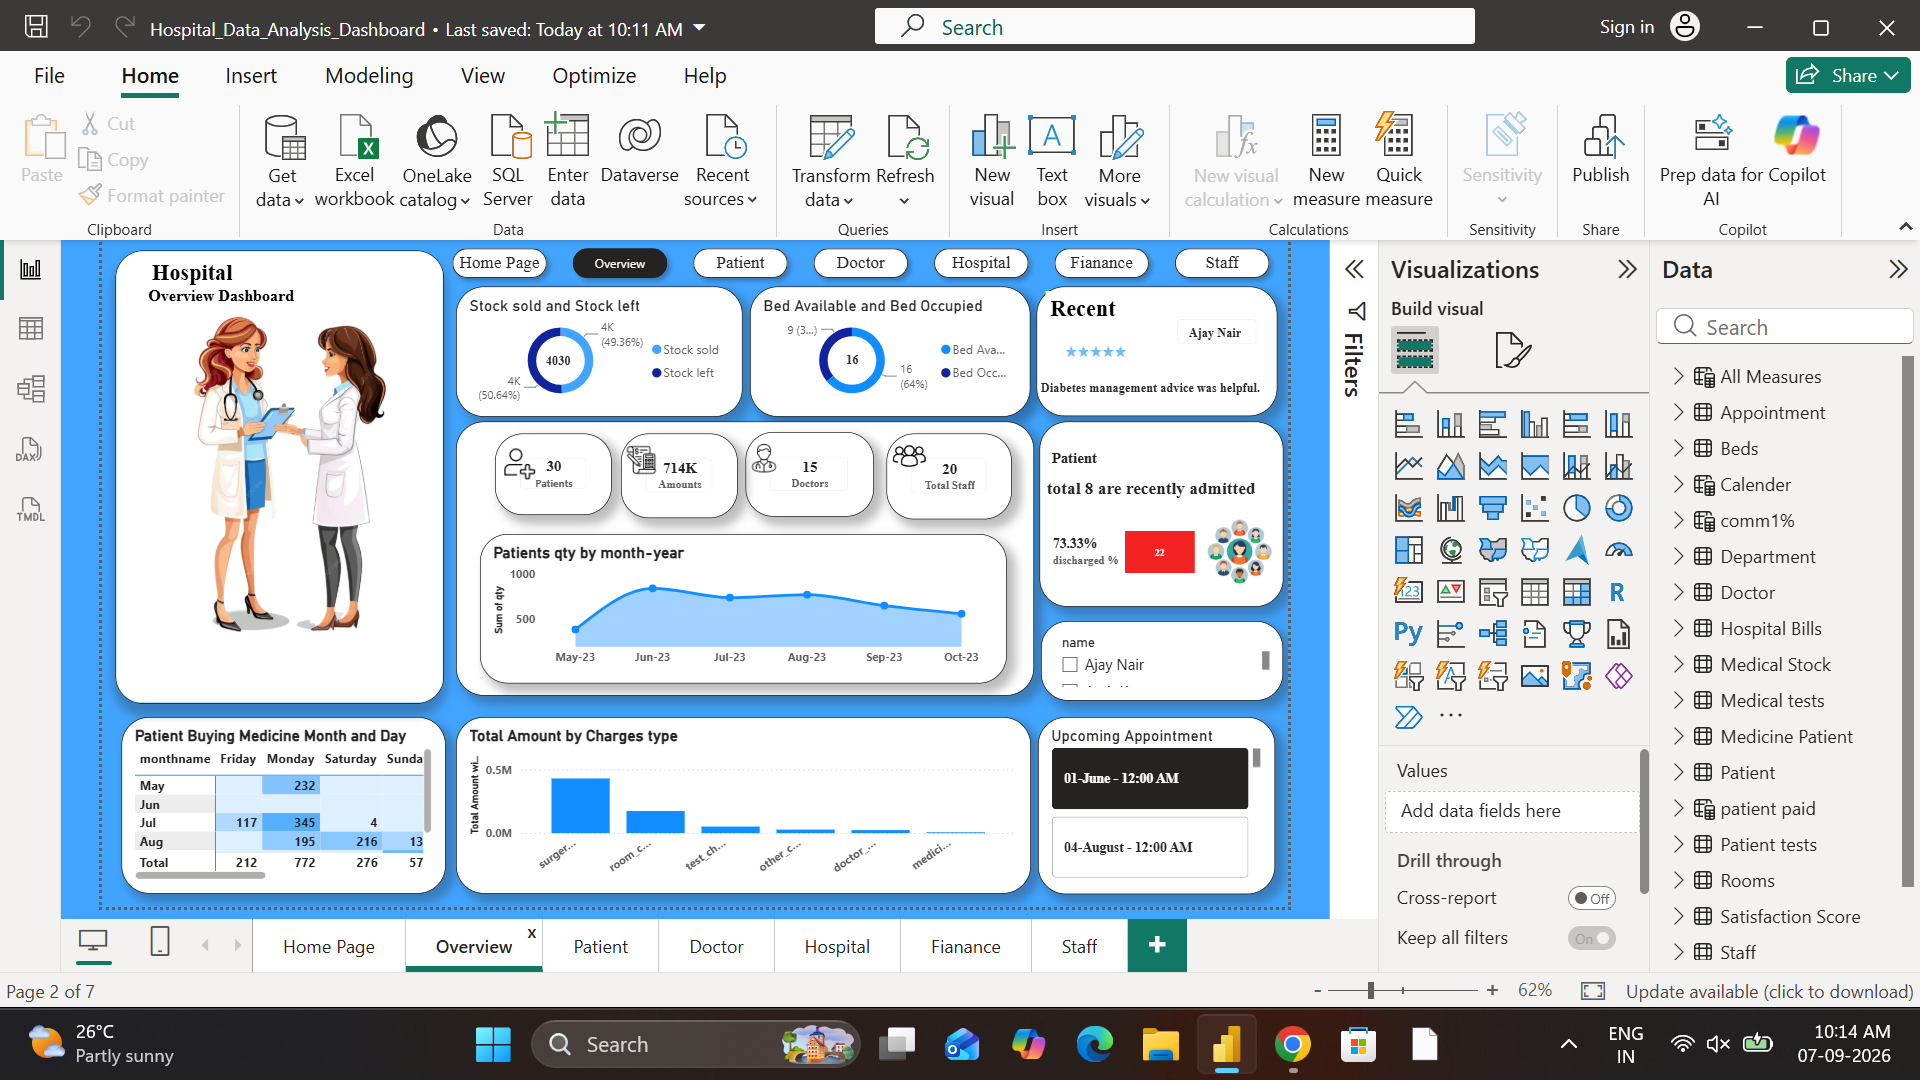

The page's visual inventory and layout, read from the dashboard file:
{"tool":"powerbi","page":{"name":"Overview","canvas":[1280,720],"ordinal":1},"visuals":[{"type":"donutChart","fields":{"Y":["All Measures.Stock sold","All Measures.Stock left"]},"box":[382.1,50.2,309.3,140.9],"z":0},{"type":"donutChart","fields":{"Y":["All Measures.Available","All Measures.Occupied"]},"box":[699.5,50.2,302.8,140.9],"z":1000},{"type":"shape","box":[381.5,196.3,624.1,296.3],"z":2000},{"type":"cardVisual","fields":{"Data":["All Measures.Total Patients"]},"box":[424.6,208.8,126.3,87.7],"z":3000},{"type":"cardVisual","fields":{"Data":["All Measures.Doctors"]},"box":[694.7,207,138.6,91.2],"z":4000},{"type":"cardVisual","fields":{"Data":["All Measures.Amounts"]},"box":[559.6,208.8,126.3,91.2],"z":5000},{"type":"cardVisual","fields":{"Data":["All Measures.Staff count"]},"box":[847.4,208.8,135.1,93],"z":6000},{"type":"areaChart","title":"Patients qty by month-year","fields":{"Category":["Calender.month-year"],"Y":["Sum(Medicine Patient.qty)"]},"box":[407.4,316.7,568.5,161.1],"z":7000},{"type":"pivotTable","title":"Patient Buying Medicine Month  and Day","fields":{"Columns":["Calender.Dayname"],"Values":["Sum(Medicine Patient.qty)"],"Rows":["Calender.monthname"]},"box":[20.4,514.8,350,190.7],"z":8000},{"type":"columnChart","title":"Total Amount by Charges type","fields":{"Category":["Hospital Bills.Charges type"],"Y":["All Measures.Total Amount with dicount"]},"box":[381.5,514.8,620.4,190.7],"z":9000},{"type":"image","box":[431.6,224.6,36.8,33.3],"z":10000},{"type":"image","box":[694.6,220.2,40.5,30.8],"z":11000},{"type":"image","box":[559.6,221.1,43.9,31.6],"z":12000},{"type":"image","box":[847.4,210.5,49.1,45.6],"z":13000},{"type":"image","box":[14.6,11.3,354.6,489],"z":14000},{"type":"cardVisual","fields":{"Data":["All Measures.Stock left"]},"box":[450.1,87.4,102,81],"z":15000},{"type":"cardVisual","fields":{"Data":["All Measures.Bed Available"]},"box":[769.1,103.6,82.6,51.8],"z":16000},{"type":"pageNavigator","box":[368.6,0,900,50],"z":17000},{"type":"actionButton","box":[1214,210.5,61.4,40.4],"z":18000},{"type":"shape","box":[1008.3,50,260,140],"z":19000},{"type":"cardVisual","fields":{"Data":["Min(Patient.name)"]},"box":[1143.3,68.3,120,61.7],"z":20000},{"type":"cardVisual","fields":{"Data":["All Measures.Rating"]},"box":[1001.7,71.7,141.7,95],"z":21000},{"type":"cardVisual","fields":{"Data":["Min(Satisfaction Score.feedback)"]},"box":[984.2,119.3,296.5,77.2],"z":22000},{"type":"textbox","box":[1019.3,54.4,136.8,45.6],"z":23000},{"type":"shape","box":[1012.3,196.5,263.2,200],"z":24000},{"type":"cardVisual","fields":{"Data":["All Measures.discharged %"]},"box":[996.7,298.3,141.7,76.7],"z":25000},{"type":"cardVisual","fields":{"Data":["All Measures.total discharged"]},"box":[1105,313.3,75,45],"z":26000},{"type":"image","box":[1180,298.3,95,76.7],"z":27000},{"type":"textbox","box":[1020,220,183.3,35.6],"z":28000},{"type":"advancedSlicerVisual","fields":{"Values":["Appointment.appointment_date_fo"]},"box":[1010.4,514.9,255.8,191.1],"z":29000},{"type":"cardVisual","fields":{"Data":["All Measures.text"]},"box":[991.2,226.3,284.2,80.7],"z":30000},{"type":"slicer","fields":{"Values":["Patient.name"]},"box":[1014,410.5,261.4,86],"z":31000},{"type":"shape","box":[20,10,156,50],"z":32000},{"type":"shape","box":[45.3,34,166.8,53.4],"z":33000}]}

Visuals, with their boxes on the page's 1280x720 design canvas (x1, y1, x2, y2). These are canvas units, not pixel positions in the 1920x1080 screenshot, which may show the page scaled, cropped or inside an application window:
donutChart - All Measures.Stock sold x All Measures.Stock left: bbox(382, 50, 691, 191)
donutChart - All Measures.Available x All Measures.Occupied: bbox(700, 50, 1002, 191)
shape: bbox(382, 196, 1006, 493)
cardVisual - All Measures.Total Patients: bbox(425, 209, 551, 296)
cardVisual - All Measures.Doctors: bbox(695, 207, 833, 298)
cardVisual - All Measures.Amounts: bbox(560, 209, 686, 300)
cardVisual - All Measures.Staff count: bbox(847, 209, 982, 302)
"Patients qty by month-year" areaChart: bbox(407, 317, 976, 478)
"Patient Buying Medicine Month  and Day" pivotTable: bbox(20, 515, 370, 706)
"Total Amount by Charges type" columnChart: bbox(382, 515, 1002, 706)
image: bbox(432, 225, 468, 258)
image: bbox(695, 220, 735, 251)
image: bbox(560, 221, 604, 253)
image: bbox(847, 210, 896, 256)
image: bbox(15, 11, 369, 500)
cardVisual - All Measures.Stock left: bbox(450, 87, 552, 168)
cardVisual - All Measures.Bed Available: bbox(769, 104, 852, 155)
pageNavigator: bbox(369, 0, 1269, 50)
actionButton: bbox(1214, 210, 1275, 251)
shape: bbox(1008, 50, 1268, 190)
cardVisual - Min(Patient.name): bbox(1143, 68, 1263, 130)
cardVisual - All Measures.Rating: bbox(1002, 72, 1143, 167)
cardVisual - Min(Satisfaction Score.feedback): bbox(984, 119, 1281, 196)
textbox: bbox(1019, 54, 1156, 100)
shape: bbox(1012, 196, 1276, 396)
cardVisual - All Measures.discharged %: bbox(997, 298, 1138, 375)
cardVisual - All Measures.total discharged: bbox(1105, 313, 1180, 358)
image: bbox(1180, 298, 1275, 375)
textbox: bbox(1020, 220, 1203, 256)
advancedSlicerVisual - Appointment.appointment_date_fo: bbox(1010, 515, 1266, 706)
cardVisual - All Measures.text: bbox(991, 226, 1275, 307)
slicer - Patient.name: bbox(1014, 410, 1275, 496)
shape: bbox(20, 10, 176, 60)
shape: bbox(45, 34, 212, 87)
